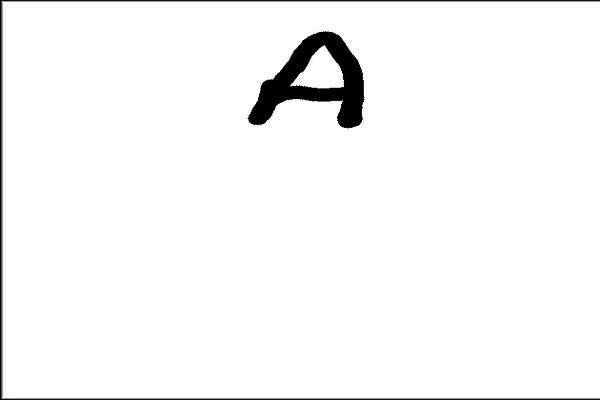A: (242, 22, 368, 140)
